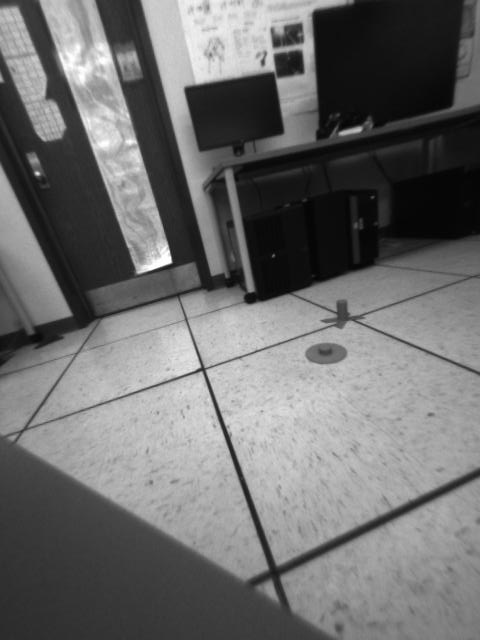X: (321, 300, 366, 330)
